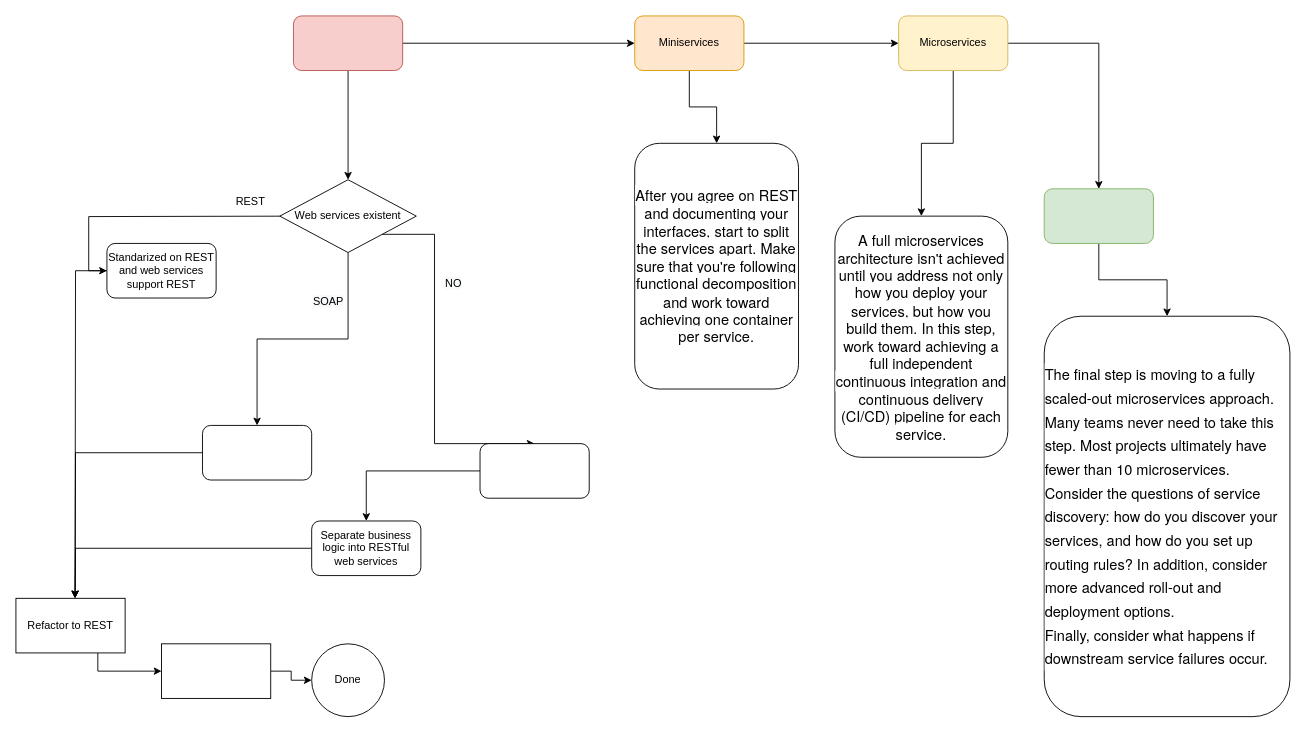
Image size: 1306x733. Some labels were removed from this diagram. Here are the shapes that lost their labels. From the top down, the centre of each, then its label:
At point 348,43: "Macroservices".
At point 1098,215: "Microservices at scale".
At point 257,452: "Refactor functional interfaces to entity-based interfaces".
At point 534,470: "Monolith without any web services".
At point 216,670: "Document to Swagger".
